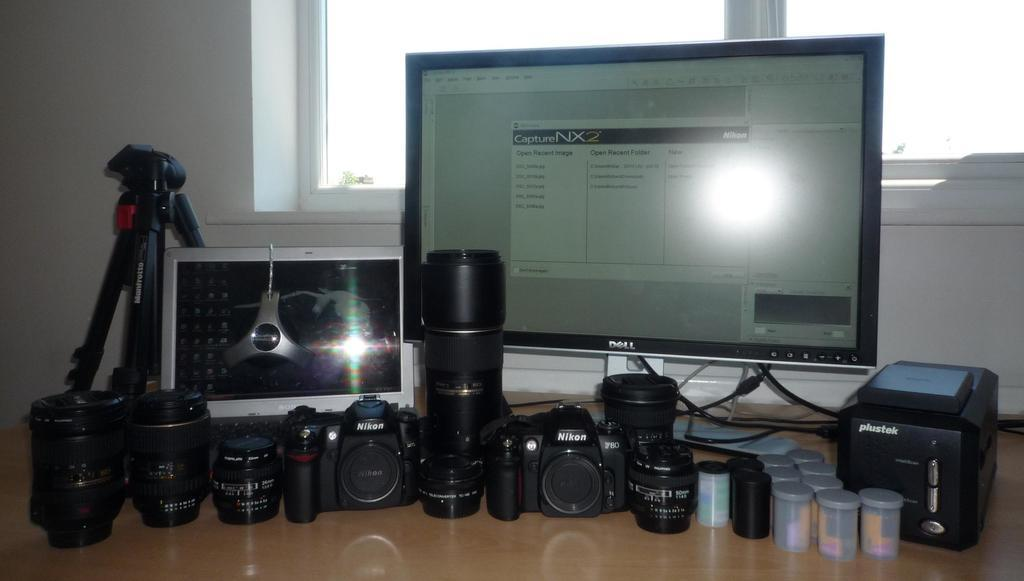Computer-monitor: (394, 14, 892, 441)
